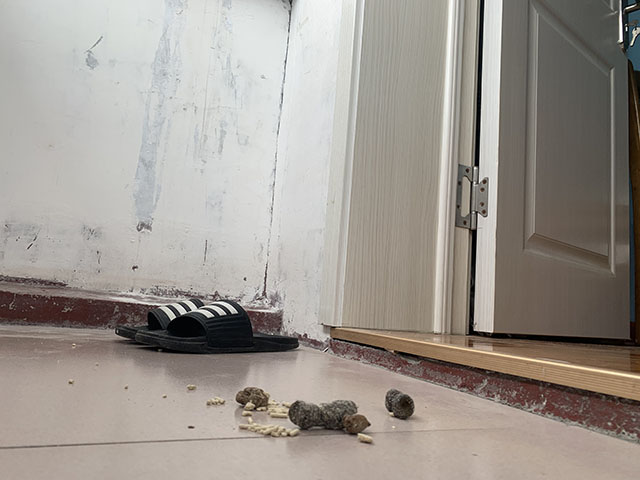feces: (287, 398, 372, 437), (384, 388, 416, 420), (234, 386, 270, 408)
slippers: (115, 296, 301, 355)
